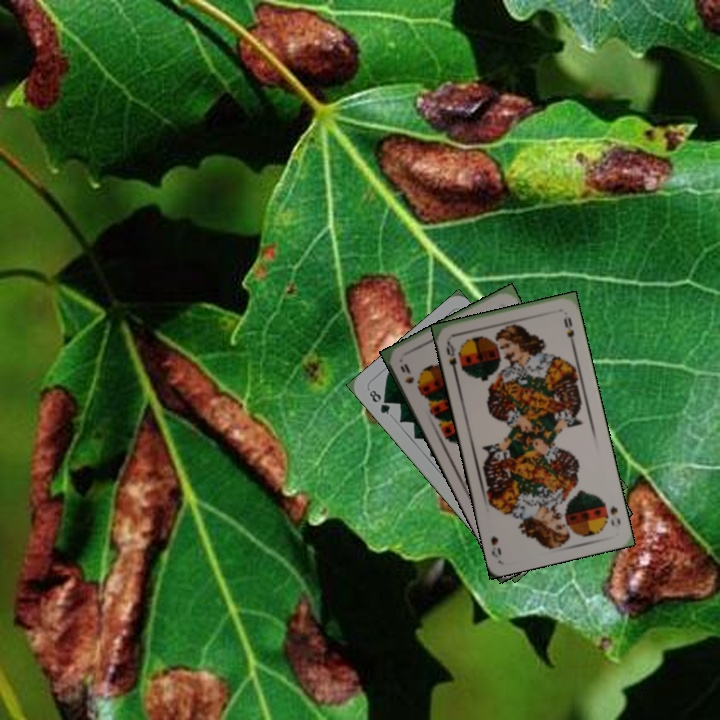G8: (365, 386, 393, 417)
S9: (396, 359, 423, 394)
SO: (442, 337, 460, 377), (606, 502, 623, 529)
